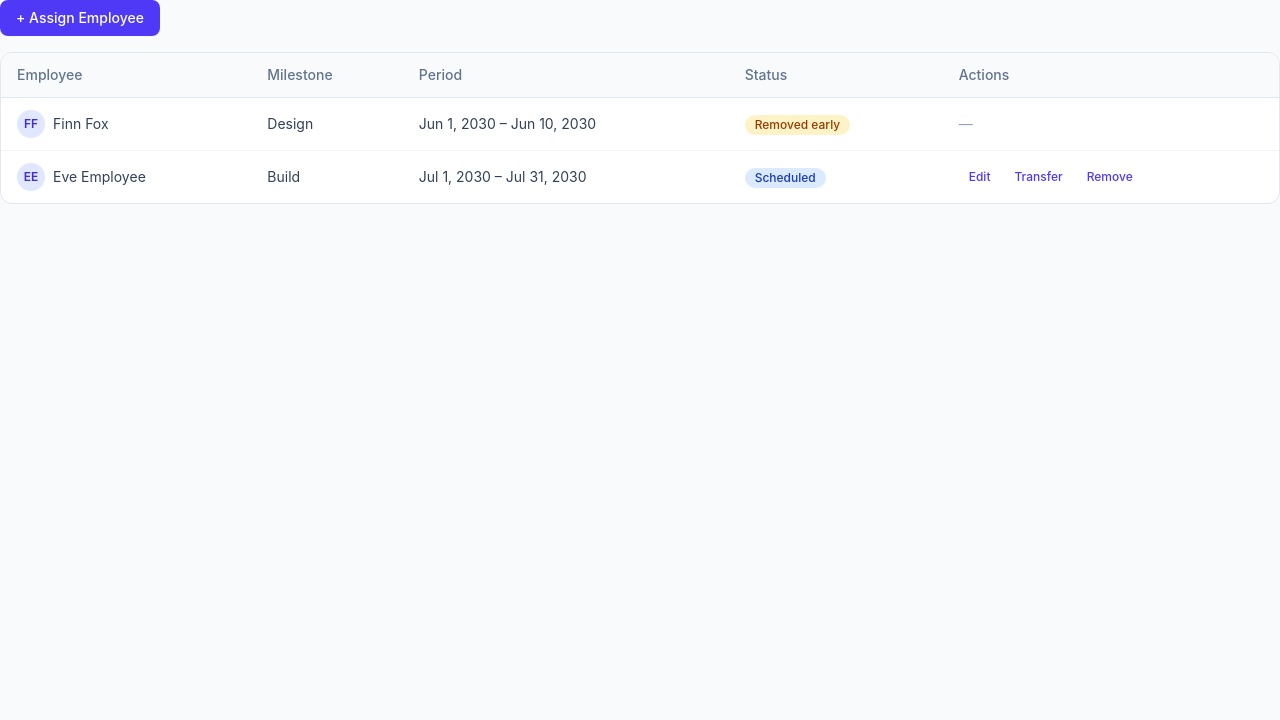
Test: EmployeesTab › assigning an employee › scopes availability to the project's manager when an admin assigns
Click the button "+ Assign Employee" at (80, 18), box [0,0,160,36]
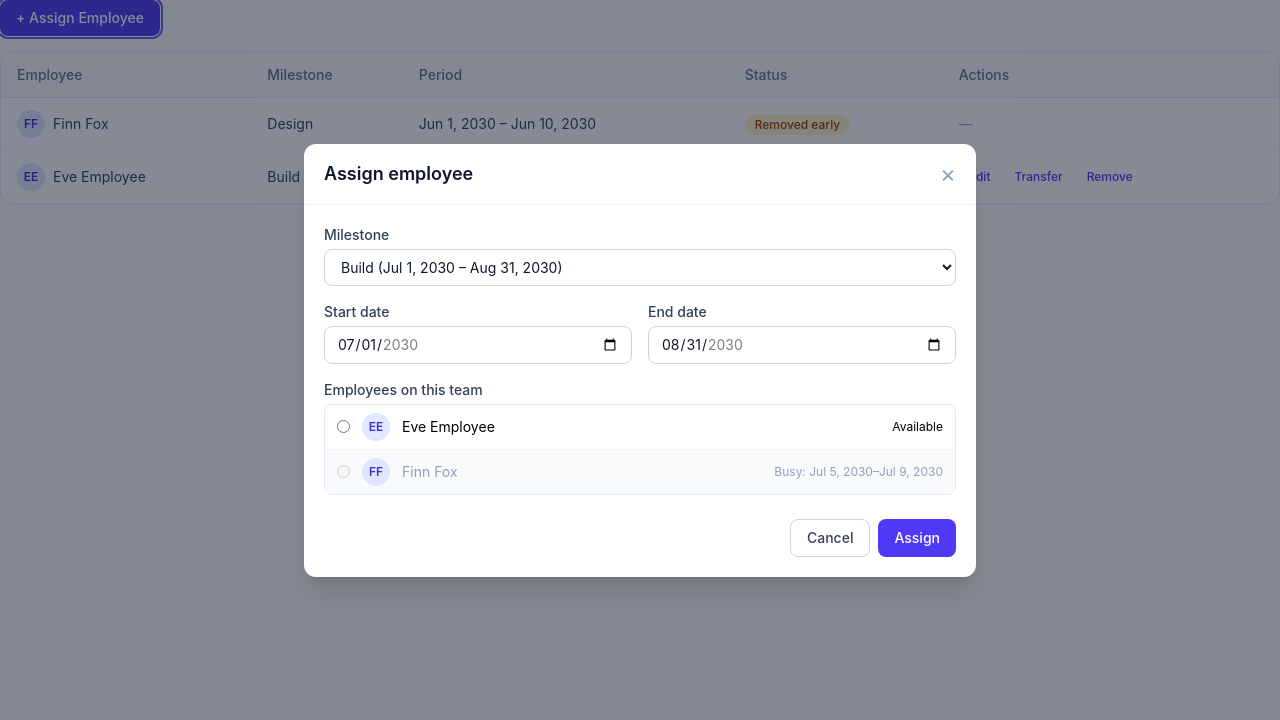
Expected: the radio button labelled "EE Eve Employee Available" is shown, [337,420,350,433]
